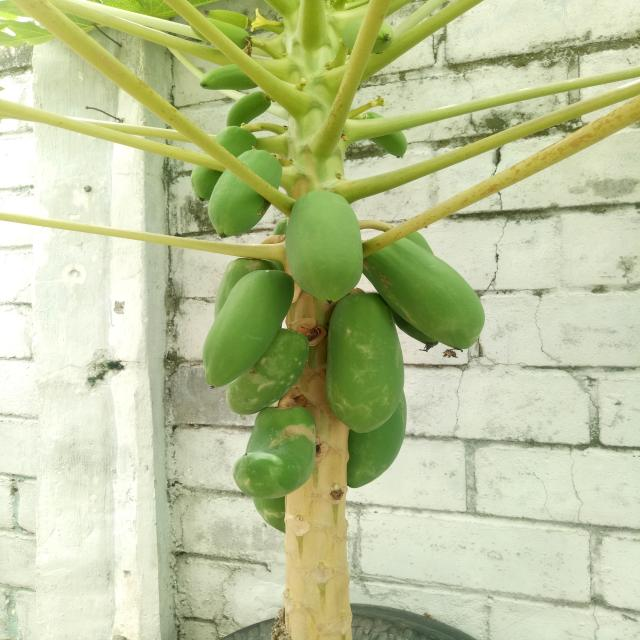Pepaya unrippen: (380, 242, 484, 352), (332, 307, 399, 424), (234, 411, 320, 494), (290, 191, 355, 299), (200, 278, 265, 384)
